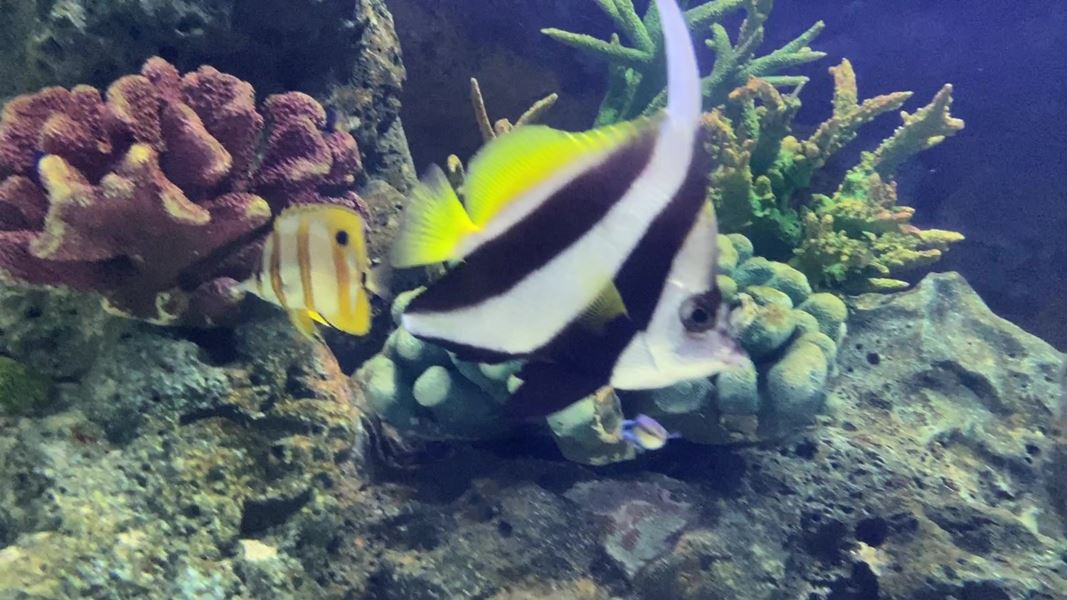Bluesteak cleaner wrasse: (602, 407, 683, 458)
